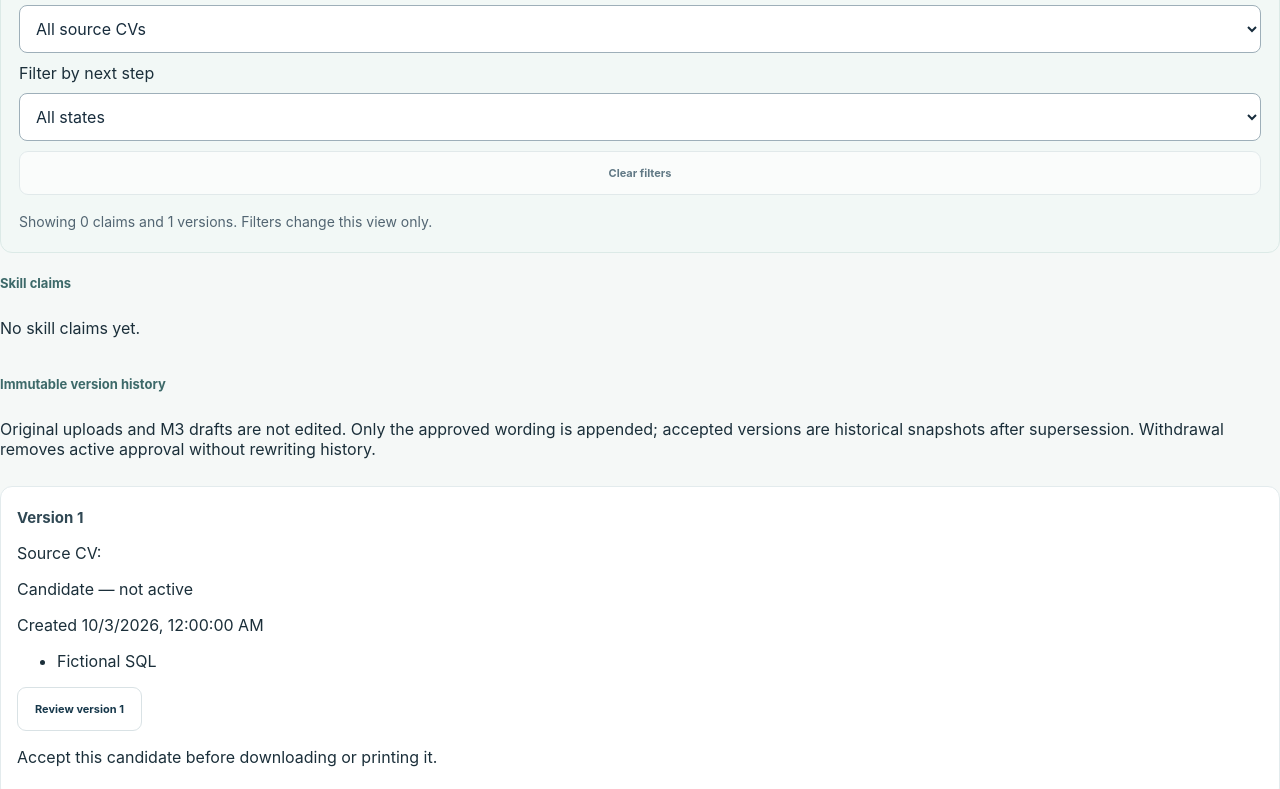
Test case: owner credential forms › requires reviewing a candidate and explicit confirmation before acceptance
(page scrolled)
Expected: the button "Accept candidate after review" is not shown
Click the button "Review version 1".
click(79, 709)  # box [17,687,142,731]
(page scrolled)
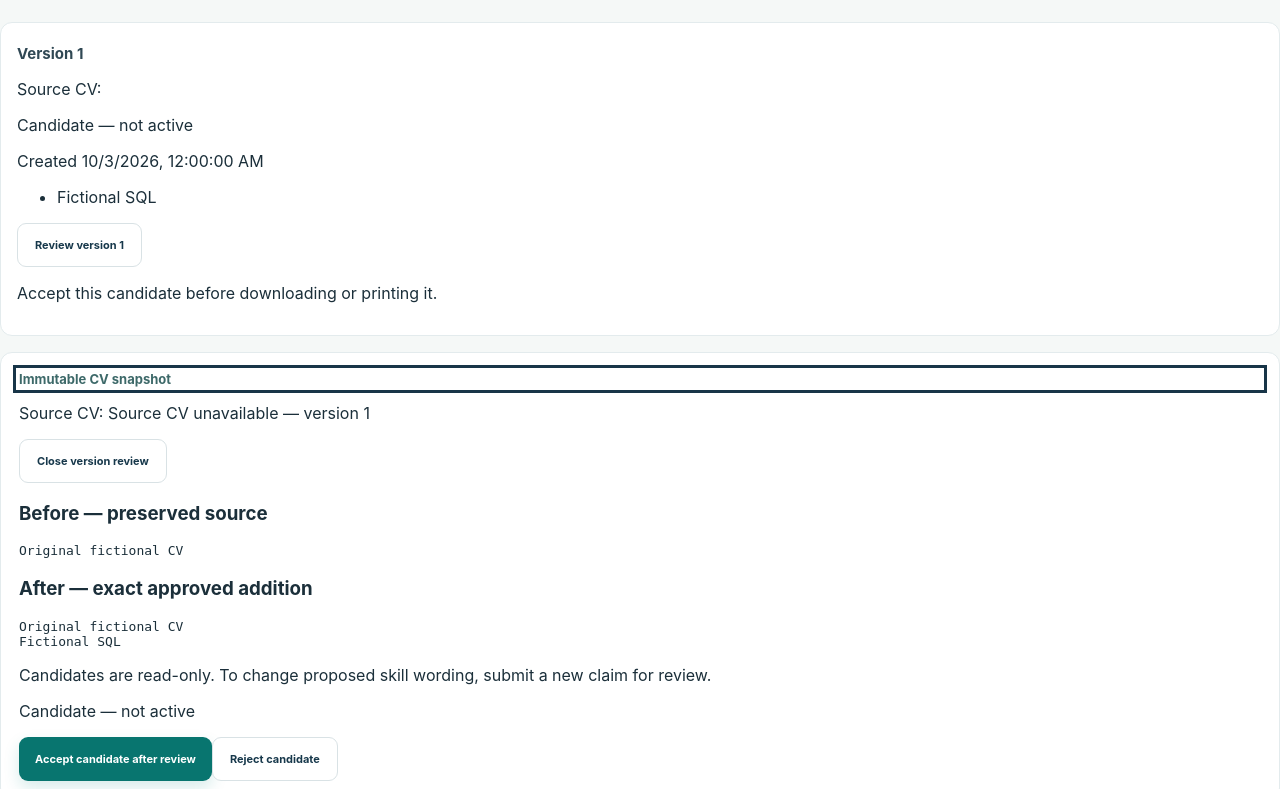
Click the button "Accept candidate after review".
click(115, 759)  # box [19,737,212,781]
(page scrolled)
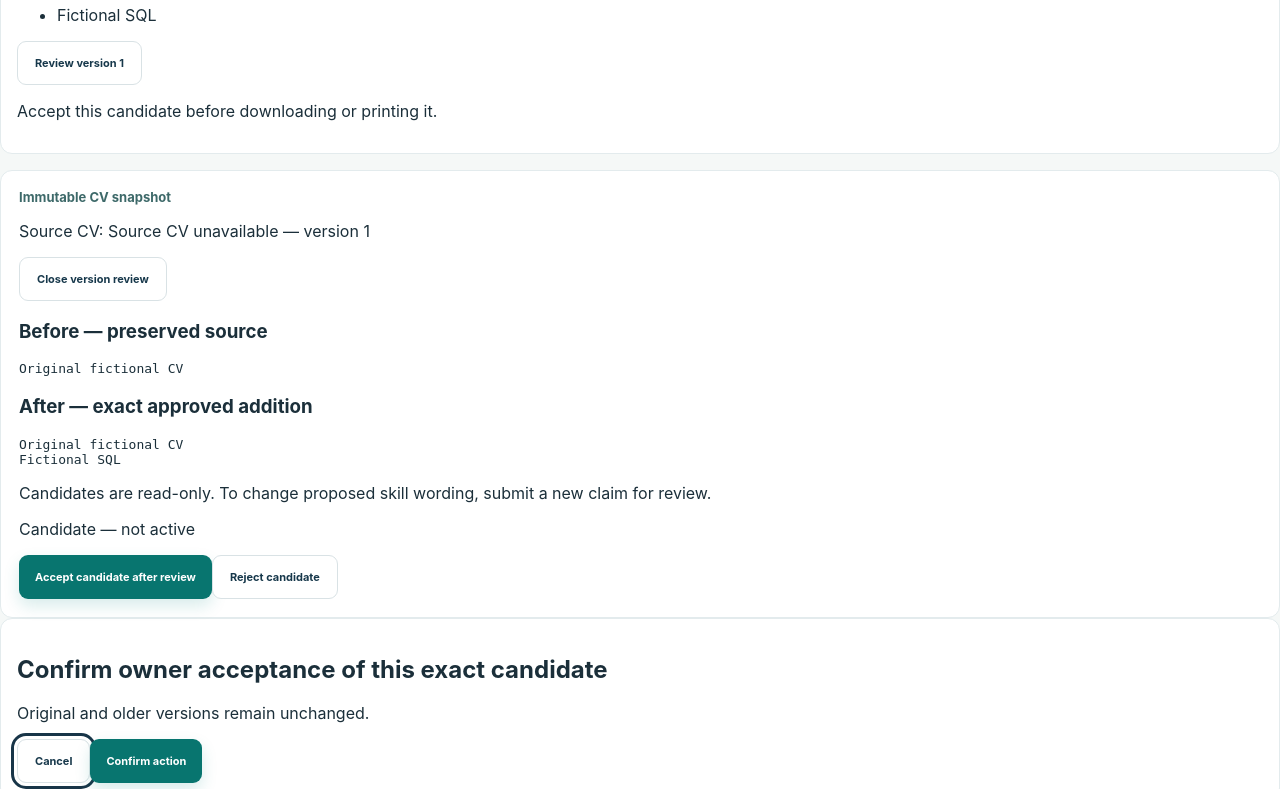
Now the heading "Before — preserved source" is shown, box [19,320,268,342]
Now the heading "After — exact approved addition" is shown, box [19,395,313,418]
Press Escape
(page scrolled)
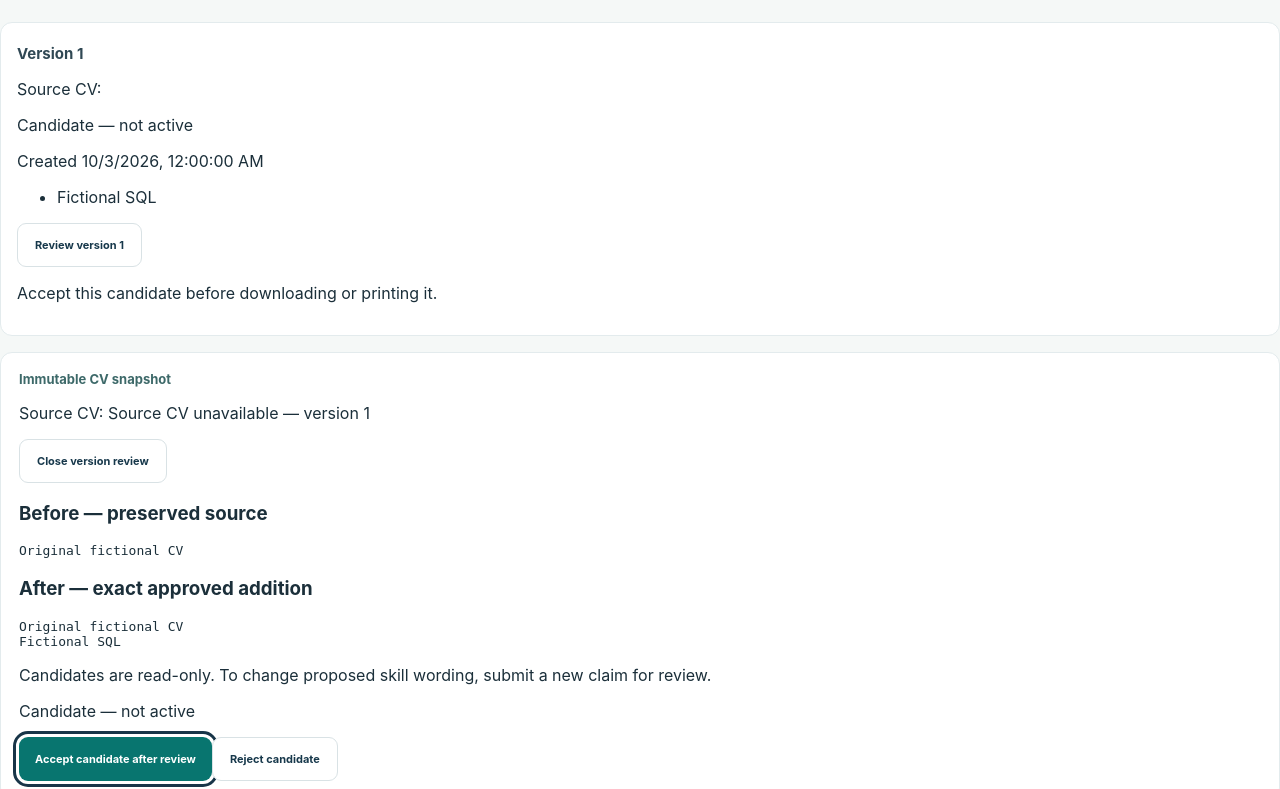
Now the button "Confirm action" is gone
Click the button "Accept candidate after review".
click(115, 759)  # box [19,737,212,781]
(page scrolled)
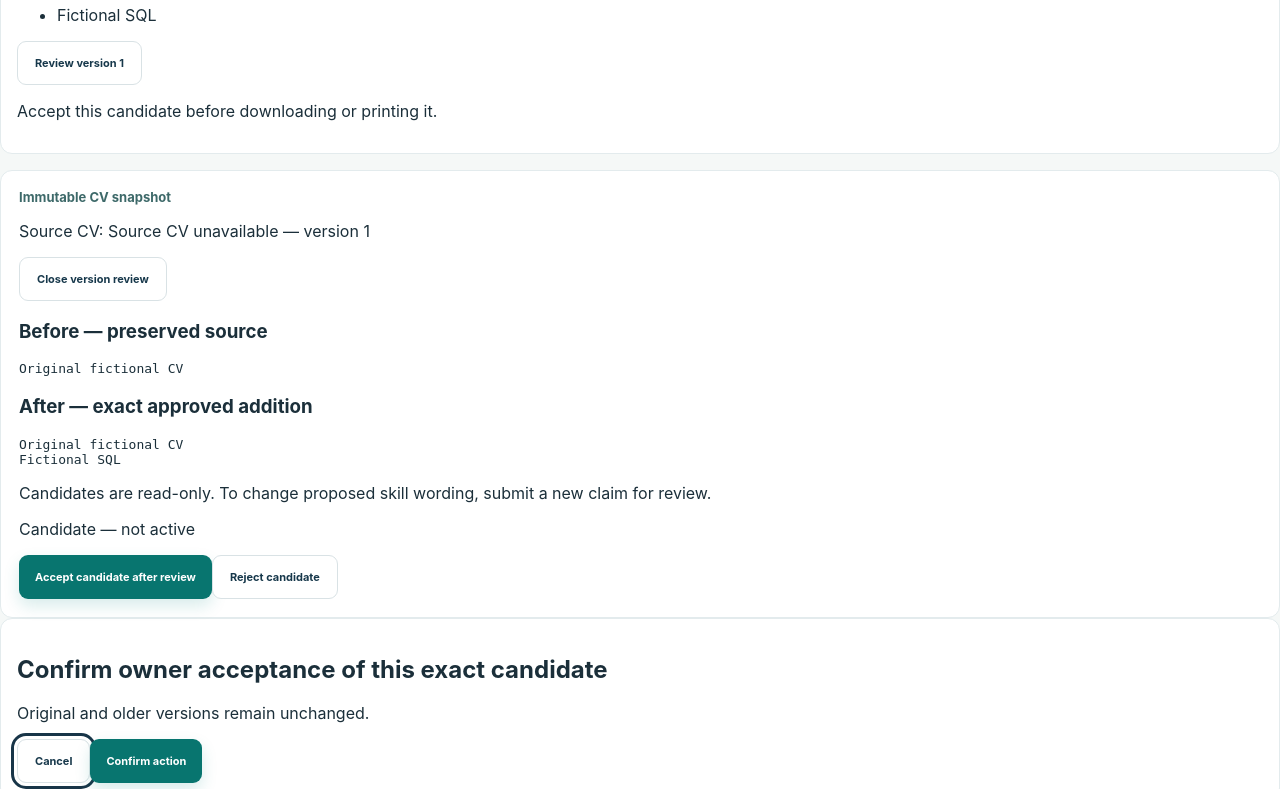
Click the button "Confirm action".
click(146, 762)  # box [90,740,202,784]
(page scrolled)
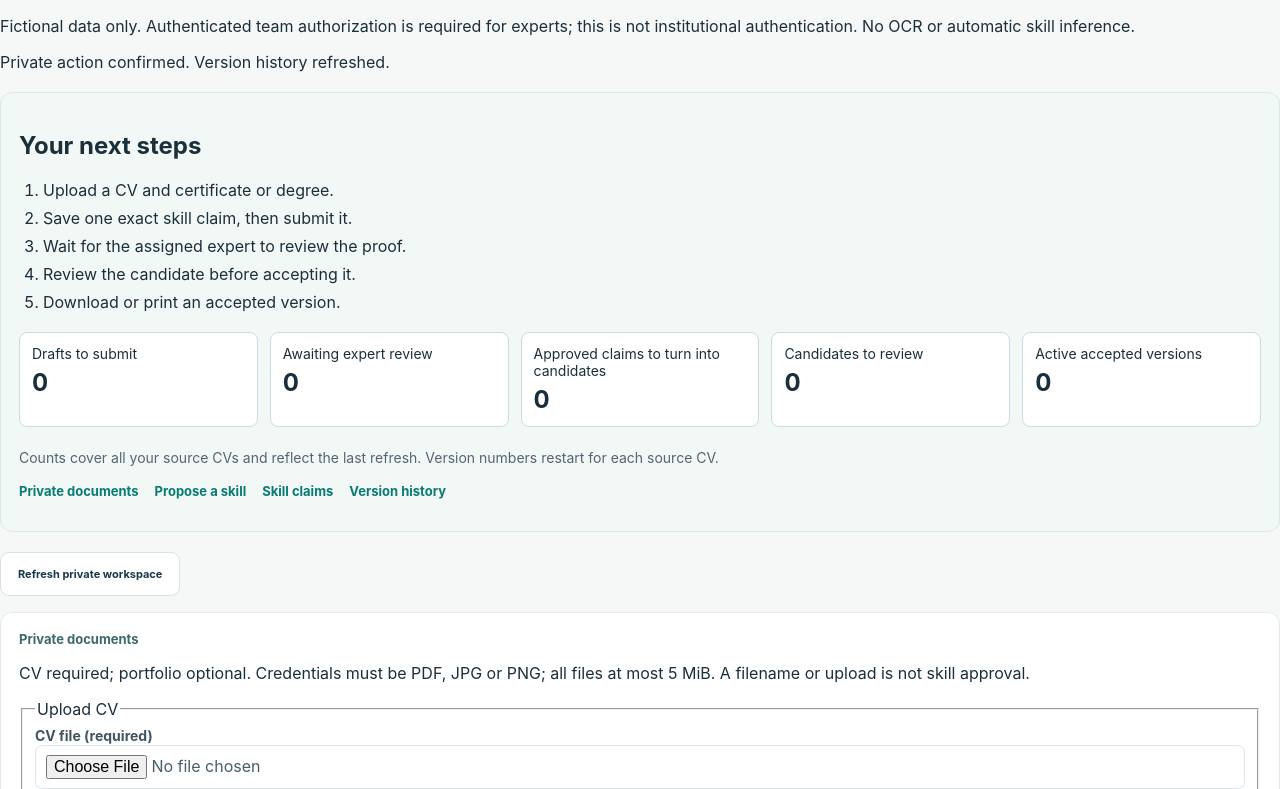
Now the text "Private action confirmed. Version history refreshed." is shown, box [0,52,390,72]
